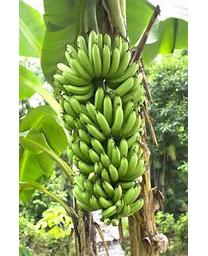banana: (52, 30, 145, 224)
